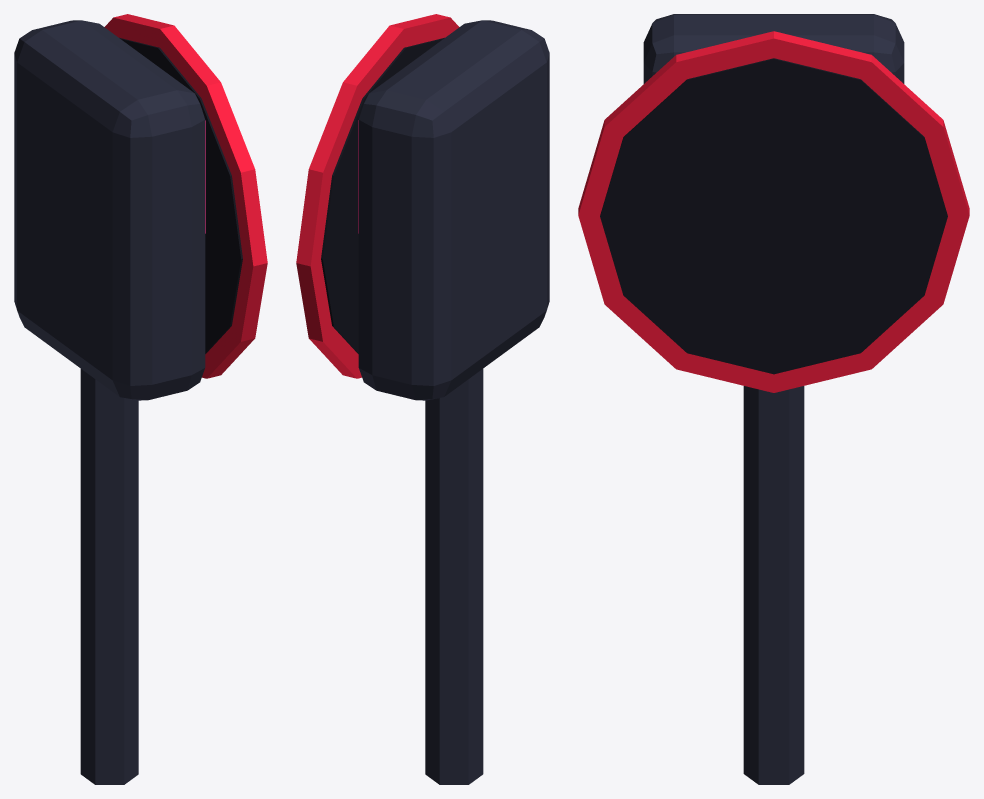
The model's file is pf_cible_tpe.glb.
3 views of the same model, side by side, from view 1: azimuth 30°, elevation 25°; view 2: azimuth 150°, elevation 25°; view 3: azimuth 270°, elevation 25° (orthographic). The views are drawn at different scales.
Visible parts, largest first — view 1: p_rbox.166, p_cyl.138, p_cyl.139, p_cyl.140; view 2: p_rbox.166, p_cyl.138, p_cyl.139, p_cyl.140; view 3: p_cyl.140, p_cyl.139, p_cyl.138, p_rbox.166.
Boxes of the visible parts, left/top/right/bottom form: p_rbox.166: left=14, top=20, right=205, bottom=400; p_cyl.138: left=80, top=369, right=138, bottom=784; p_cyl.139: left=104, top=14, right=267, bottom=378; p_cyl.140: left=119, top=37, right=242, bottom=353; p_rbox.166: left=358, top=20, right=549, bottom=400; p_cyl.138: left=425, top=369, right=483, bottom=784; p_cyl.139: left=296, top=14, right=459, bottom=378; p_cyl.140: left=321, top=37, right=444, bottom=353; p_cyl.140: left=600, top=58, right=947, bottom=374; p_cyl.139: left=578, top=31, right=969, bottom=392; p_cyl.138: left=743, top=386, right=804, bottom=784; p_rbox.166: left=643, top=14, right=904, bottom=83.
Bounding box in the file's own units: 0.31 × 1.95 × 0.9.
